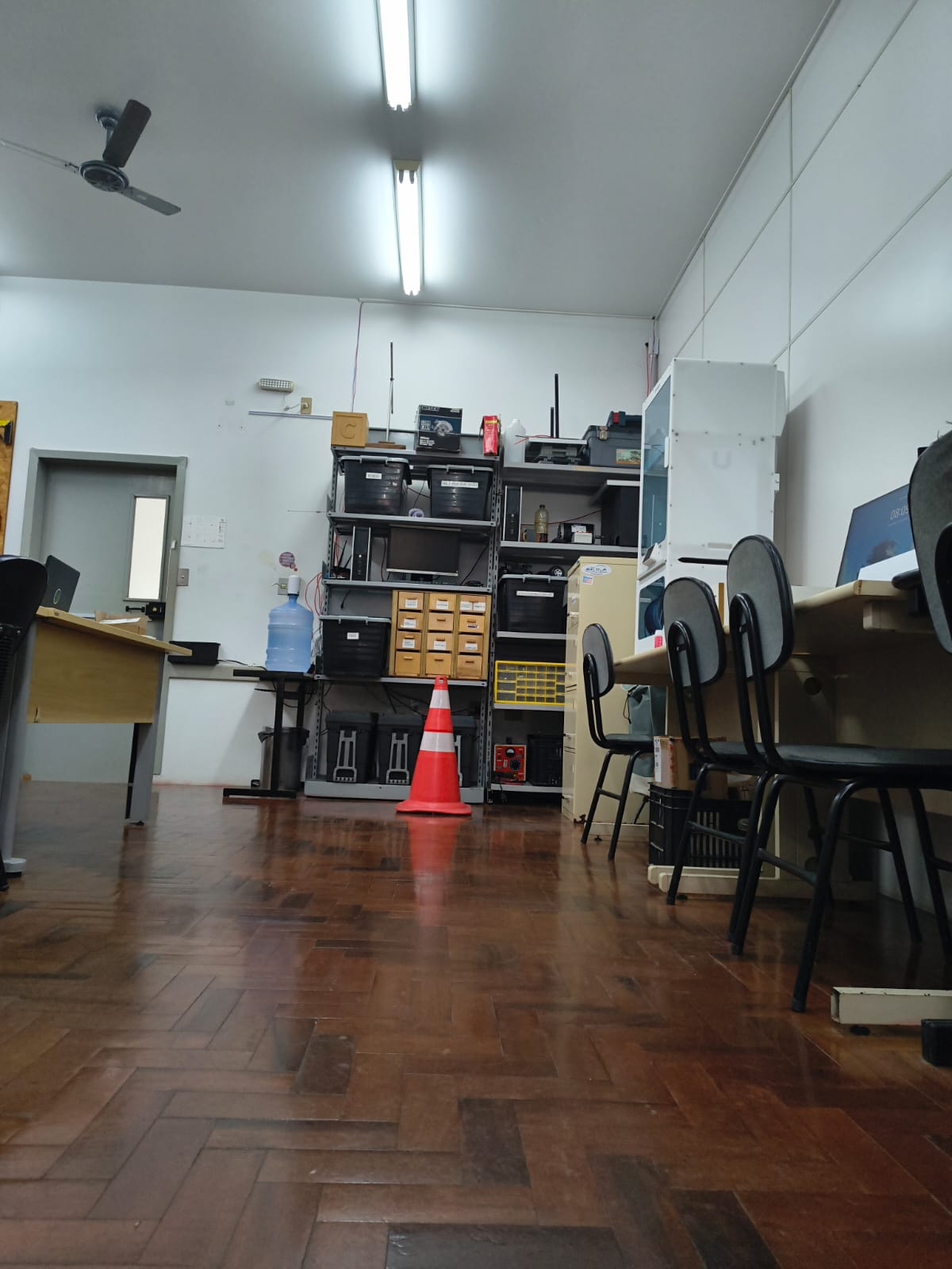cone: (391, 672, 480, 828)
